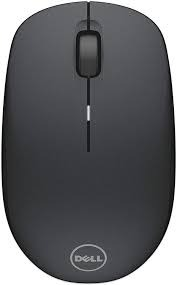mouse: (1, 7, 175, 285)
